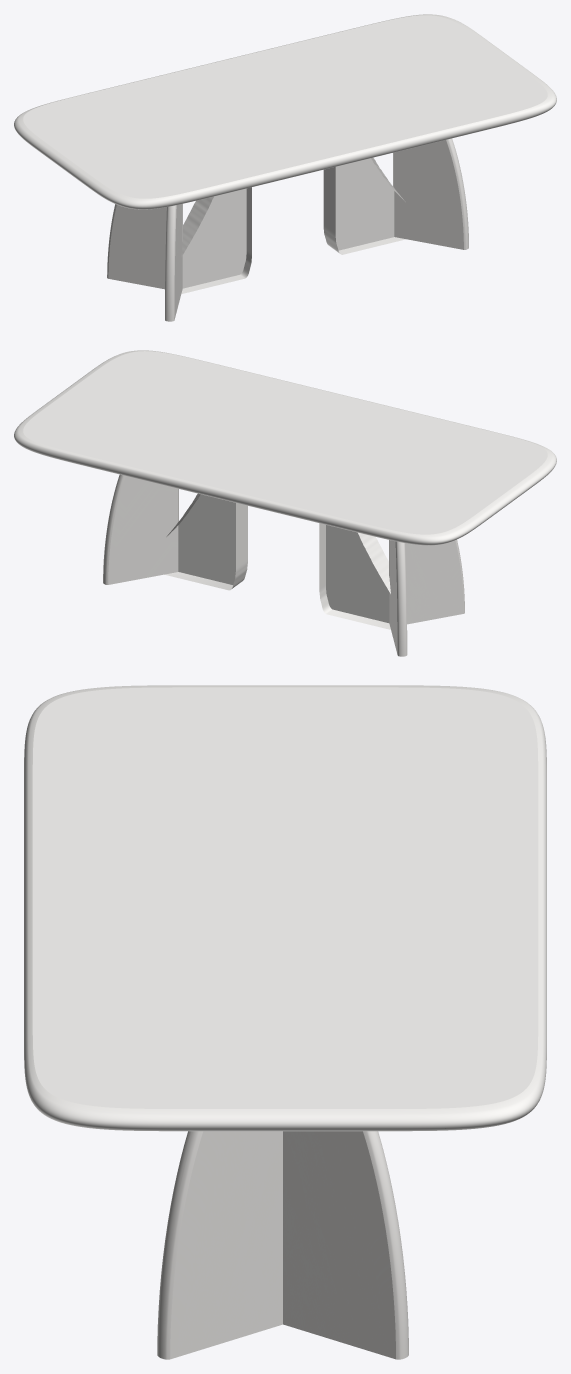
File: purewhite_softrecta_round_plane.glb
3 views of the same model, one above another, from view 1: azimuth 30°, elevation 25°; view 2: azimuth 150°, elevation 25°; view 3: azimuth 270°, elevation 25° (orthographic). The views are drawn at different scales.
Visible parts, largest first — view 1: round_softrecta, plane_singleright2, plane_single1, plane_single2, plane_singleleft1, plane_singleright1; view 2: round_softrecta, plane_singleleft2, plane_single1, plane_single2, plane_singleright1, plane_singleleft1; view 3: round_softrecta, plane_singleleft2, plane_singleright2.
Boxes of the visible parts, x1,y1,x2,y2 form: round_softrecta: (14, 14, 556, 209); plane_singleright2: (393, 138, 468, 249); plane_single1: (181, 187, 251, 293); plane_single2: (323, 157, 405, 254); plane_singleleft1: (107, 204, 182, 289); plane_singleright1: (165, 204, 182, 321); round_softrecta: (14, 350, 556, 545); plane_singleleft2: (103, 474, 178, 584); plane_single1: (319, 523, 390, 629); plane_single2: (165, 493, 247, 590); plane_singleright1: (389, 539, 464, 624); plane_singleleft1: (389, 540, 407, 656); round_softrecta: (24, 685, 546, 1131); plane_singleleft2: (283, 1131, 408, 1359); plane_singleright2: (157, 1131, 282, 1359).
Size of the model in its own units: 7.5 by 2.5 by 3.8.
1 material, 1 textured.
